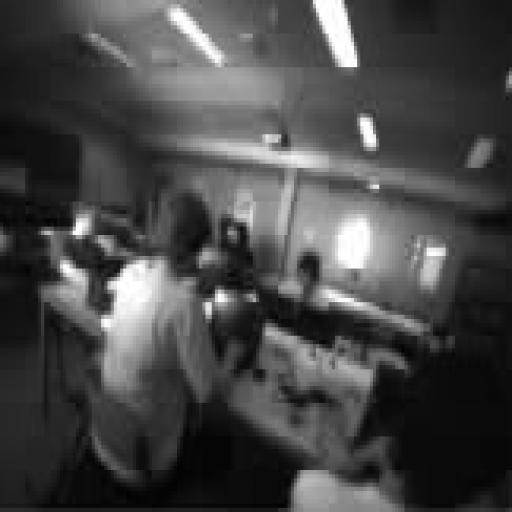human: (67, 189, 221, 507), (291, 353, 511, 511), (279, 248, 328, 310)
